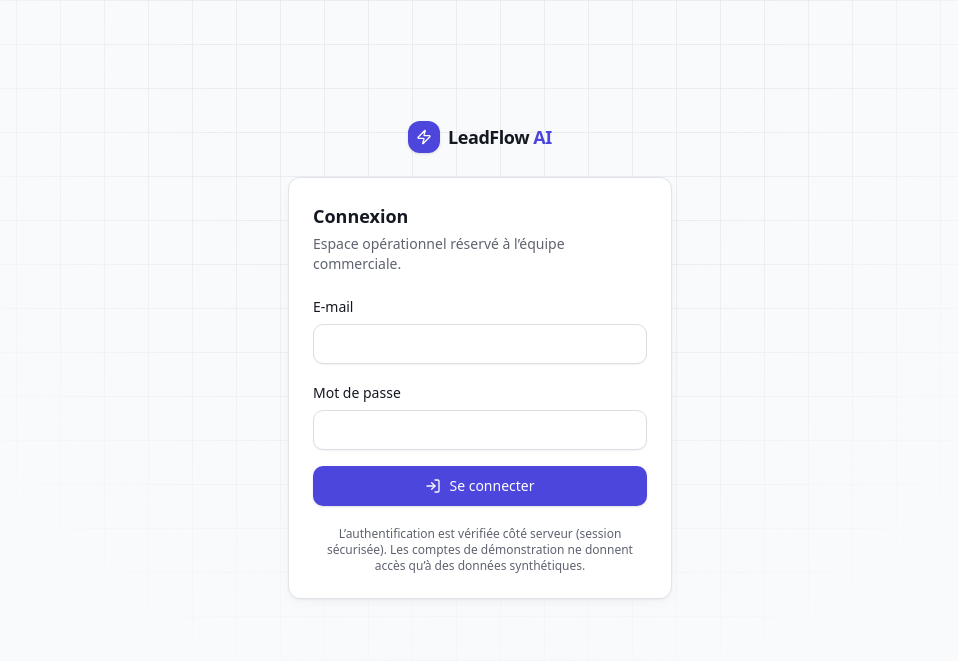
Navigation et accès › échec de connexion : message générique sans détail sur le compte
Type "x@example.org" into the field labelled "E-mail" at x=480, y=344, box [313, 324, 647, 364]
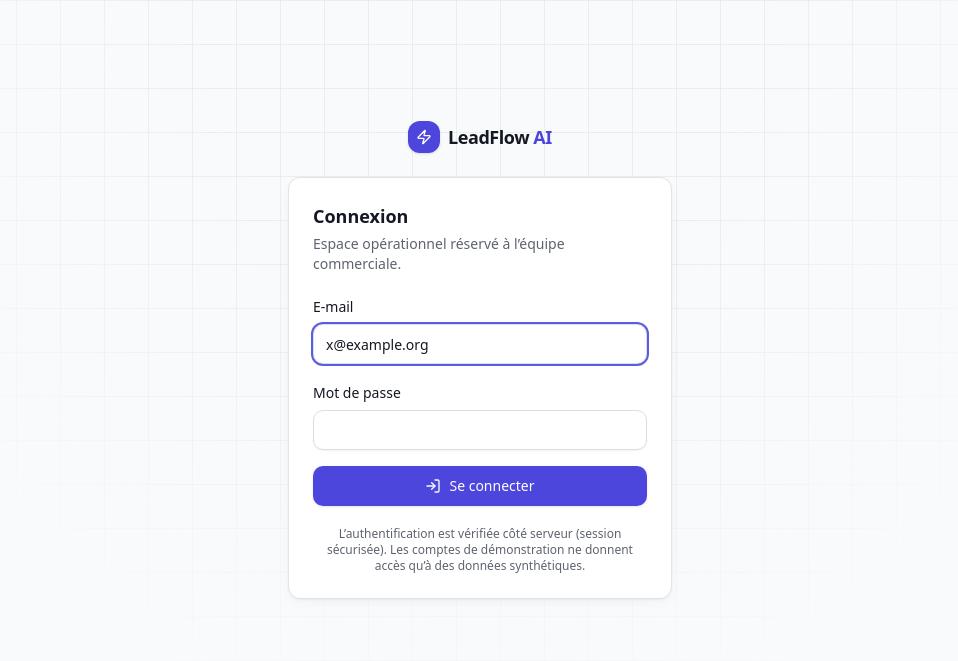
Type "bad" into the password field labelled "Mot de passe" at x=480, y=430, box [313, 410, 647, 450]
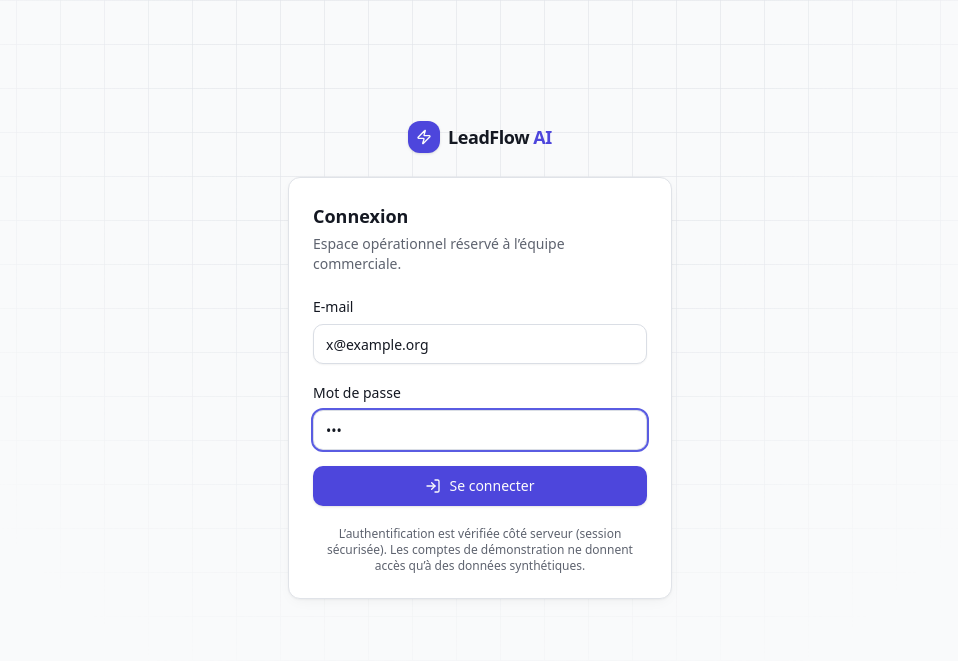
Click the button "Se connecter" at x=480, y=486, box [313, 466, 647, 506]
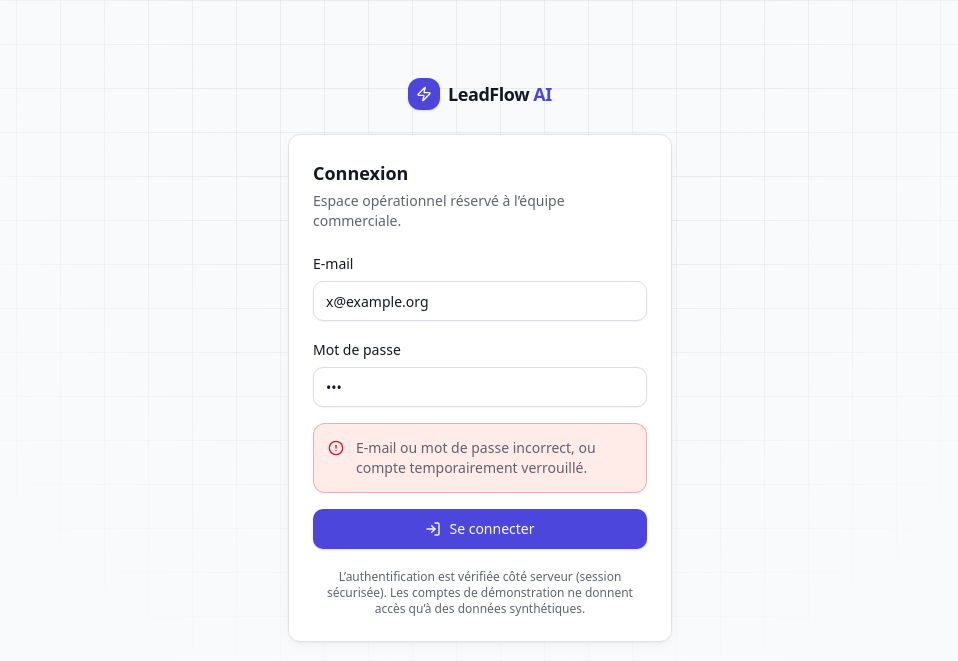
Expected: the message shows "incorrect, ou compte temporairement verrouillé", [356, 438, 596, 477]
